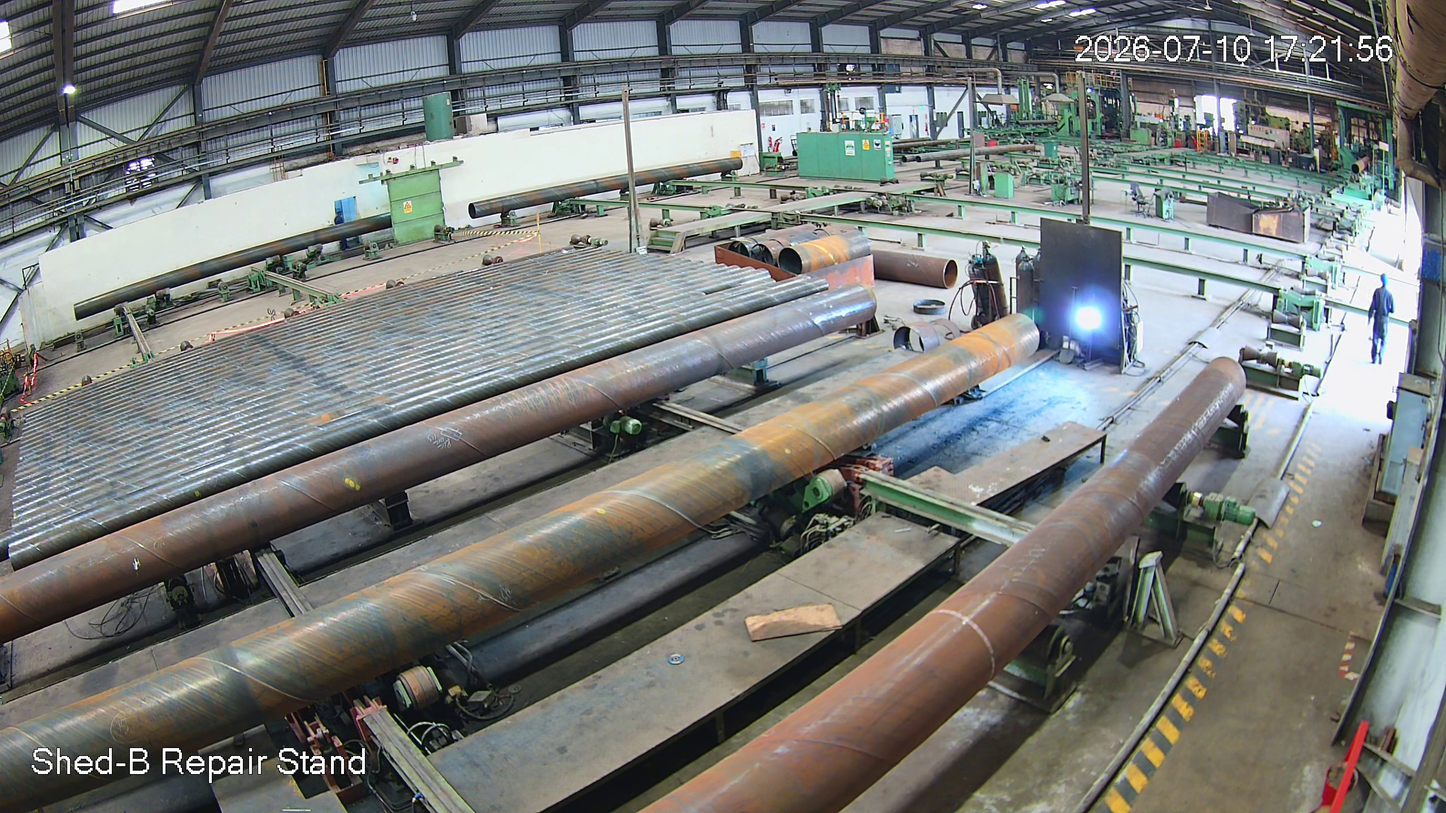Helmet: (1376, 271, 1397, 293)
Person: (1367, 273, 1396, 371)
